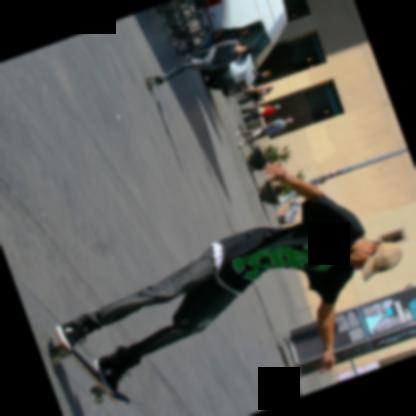backpack: (209, 28, 228, 36)
